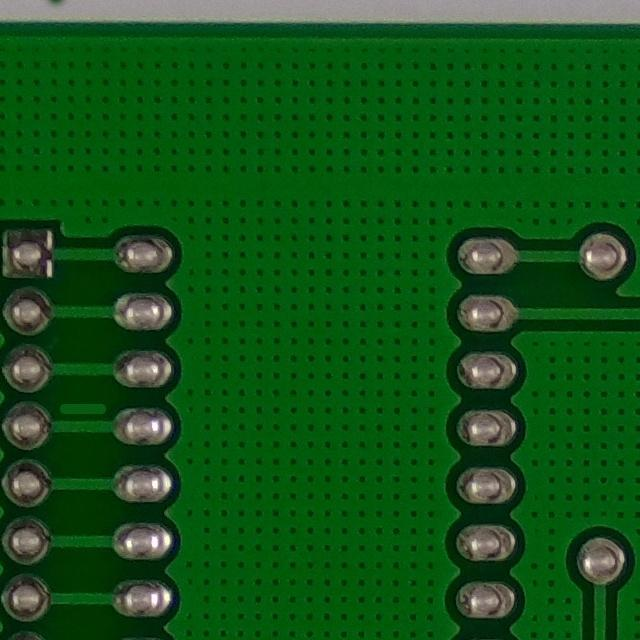spurious_copper: (55, 394, 112, 419)
